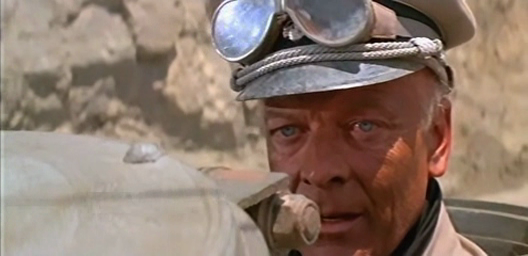cu: (1, 1, 528, 256)
face: (264, 69, 419, 256)
person: (211, 1, 488, 256)
